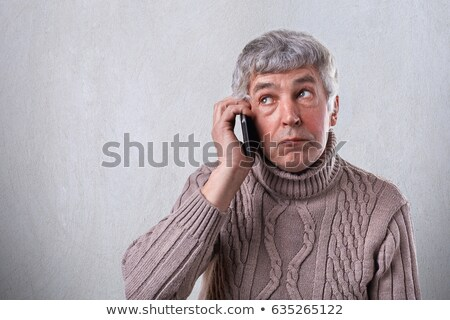phone: (219, 93, 255, 166)
talk: (211, 76, 322, 178)
